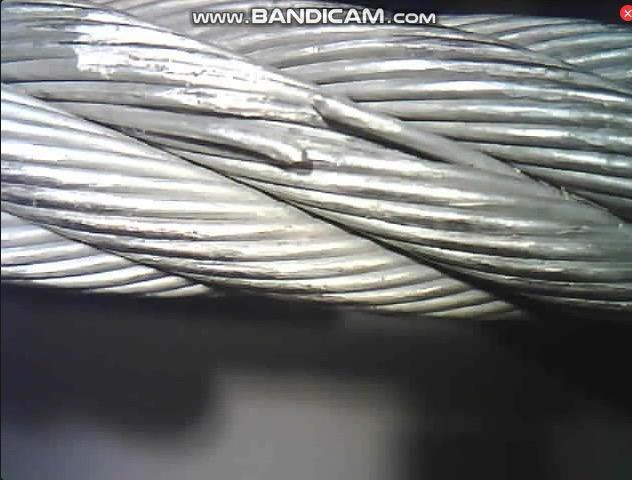break: (260, 85, 363, 170)
